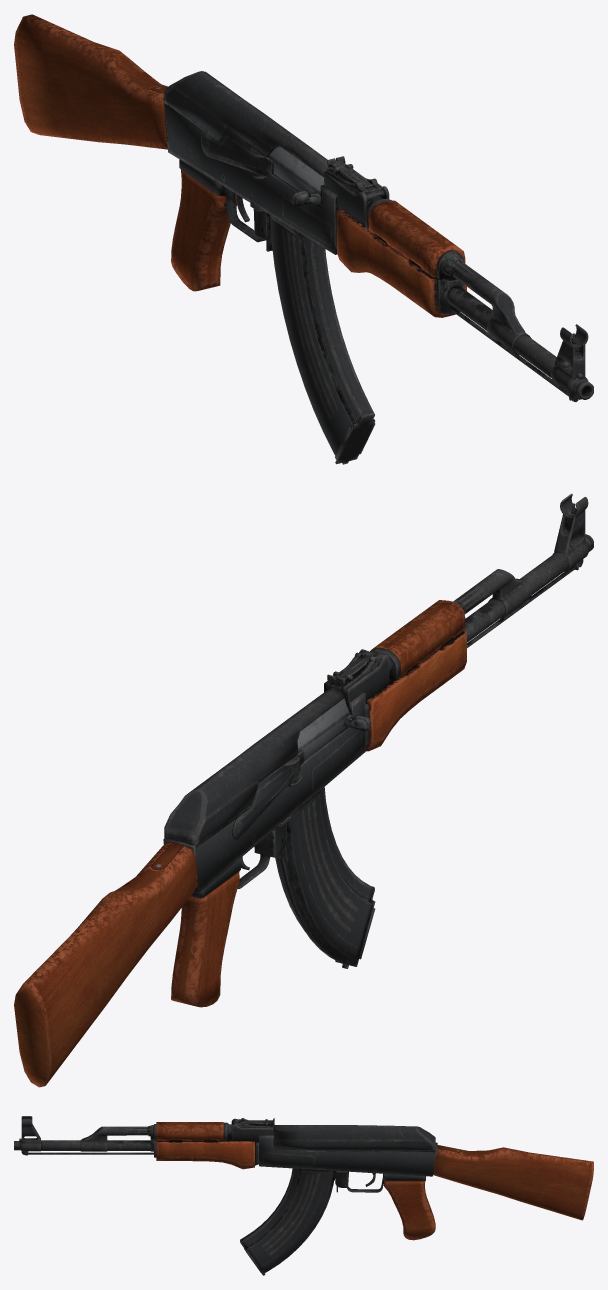
3 renders of one model, top to bottom at view 1: azimuth 30°, elevation 25°; view 2: azimuth 150°, elevation 25°; view 3: azimuth 270°, elevation 25°, orthographic. The views are drawn at different scales.
Parts seen in each view (by area): view 1: ak47; view 2: ak47; view 3: ak47.
Part boxes in pixels (<box>): ak47: <box>14,14,593,464</box>; ak47: <box>14,493,593,1087</box>; ak47: <box>14,1116,593,1275</box>.
Bounding box in the file's own units: 0.0504 × 0.2607 × 0.8719.
Materials: 1 (1 with a texture image).
